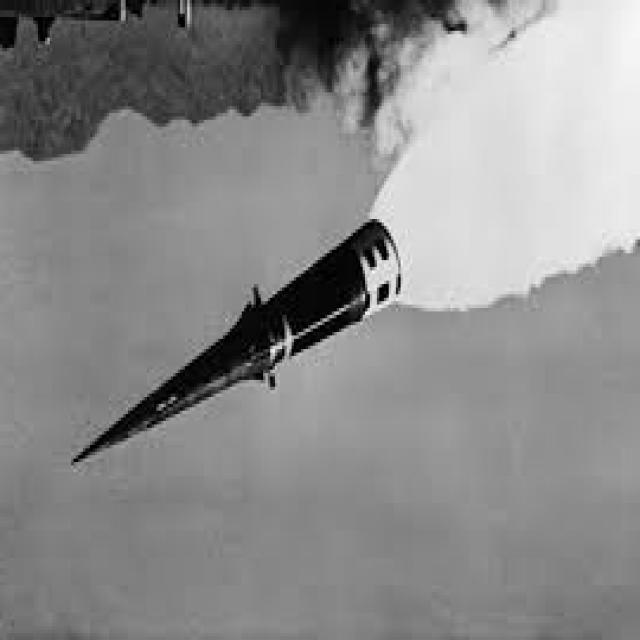Missile: (61, 213, 415, 473)
